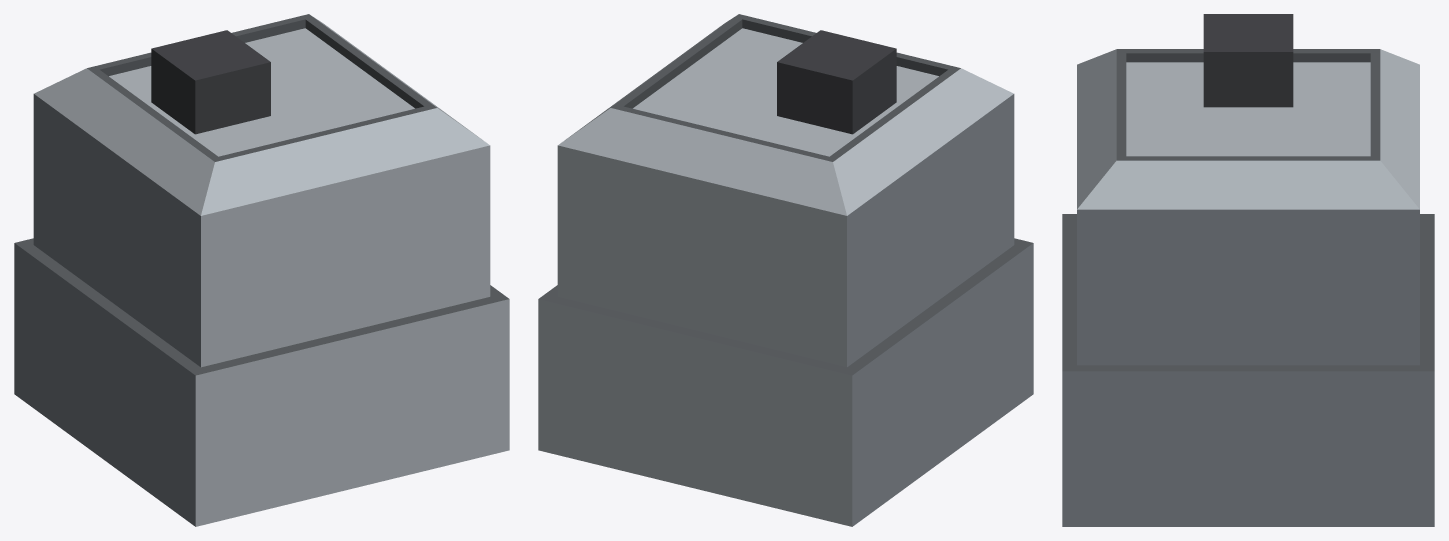
File: talo17.fbx
The picture shows the model from 3 angles, left to right: view 1: azimuth 30°, elevation 25°; view 2: azimuth 150°, elevation 25°; view 3: azimuth 270°, elevation 25°; orthographic projection. The views are drawn at different scales.
Parts seen in each view (by area): view 1: talo17; view 2: talo17; view 3: talo17.
Part boxes in pixels (x1,y1,x2,y2): talo17: (14, 14, 509, 526); talo17: (538, 14, 1033, 526); talo17: (1062, 14, 1434, 526).
Bounding box in the file's own units: 217 × 251 × 217.
